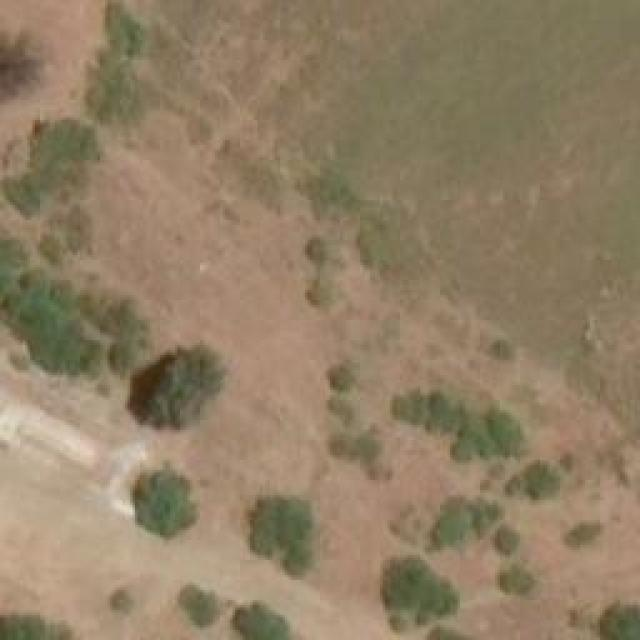Tree: (2, 294, 100, 383), (237, 493, 325, 573), (127, 355, 215, 423), (23, 120, 93, 193), (125, 462, 190, 540), (378, 555, 453, 613), (90, 50, 148, 125), (390, 384, 465, 439), (330, 425, 393, 478), (232, 605, 290, 640), (595, 600, 640, 640), (520, 458, 560, 503), (178, 583, 218, 626), (433, 505, 466, 550), (561, 514, 605, 547), (427, 619, 478, 640), (492, 567, 530, 595), (37, 230, 65, 265), (17, 265, 50, 293), (305, 278, 335, 308), (328, 360, 358, 390), (305, 235, 335, 265), (485, 338, 516, 365), (110, 588, 135, 613), (497, 525, 515, 553), (393, 615, 408, 633)
